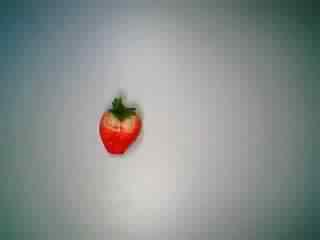strawberry: (89, 93, 157, 157)
